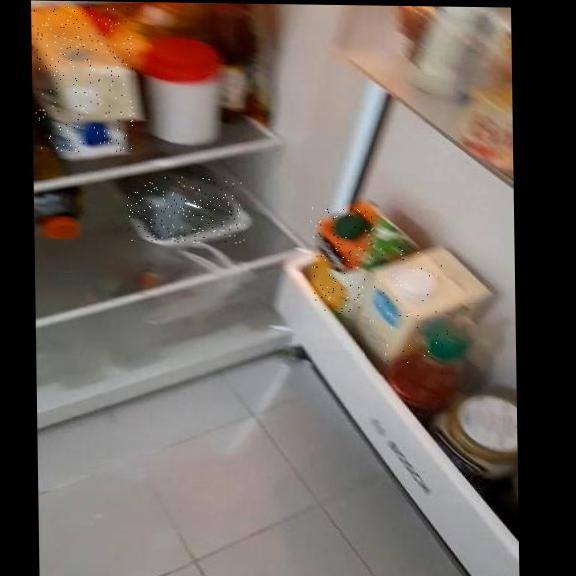broccoli: (127, 176, 245, 244)
juice: (310, 208, 376, 314)
milk: (33, 6, 135, 153), (364, 246, 450, 376)
